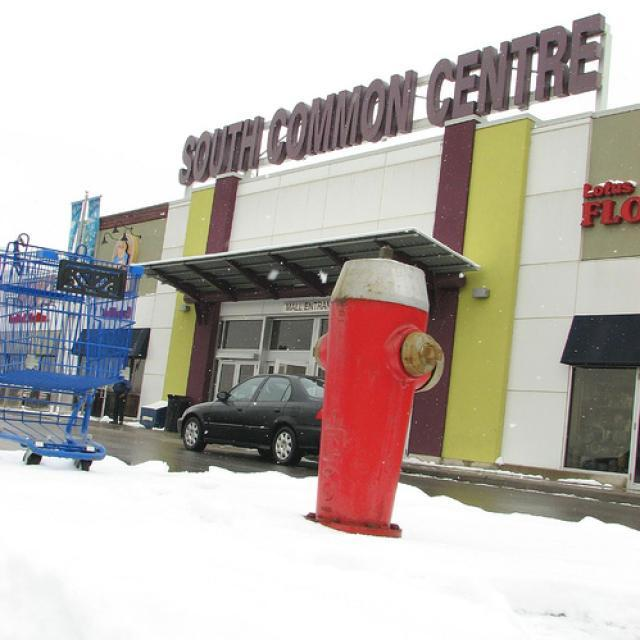fire_hydrant: (309, 256, 444, 538)
